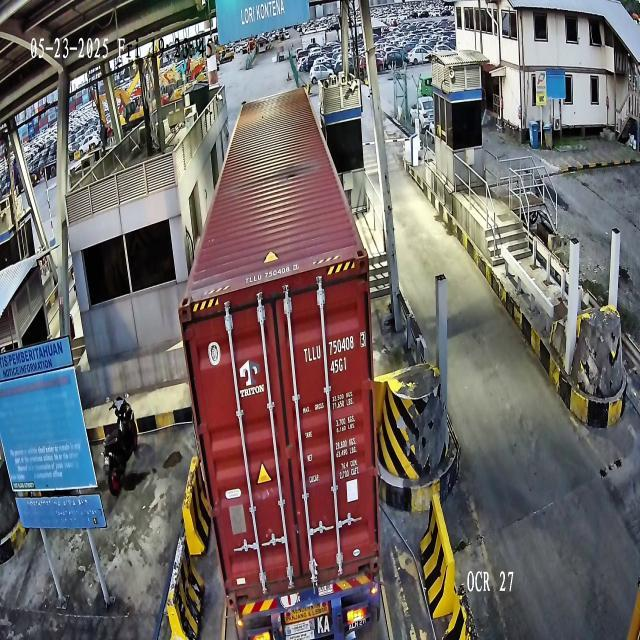ISO: (330, 356, 348, 374)
container_number: (302, 330, 366, 362)
